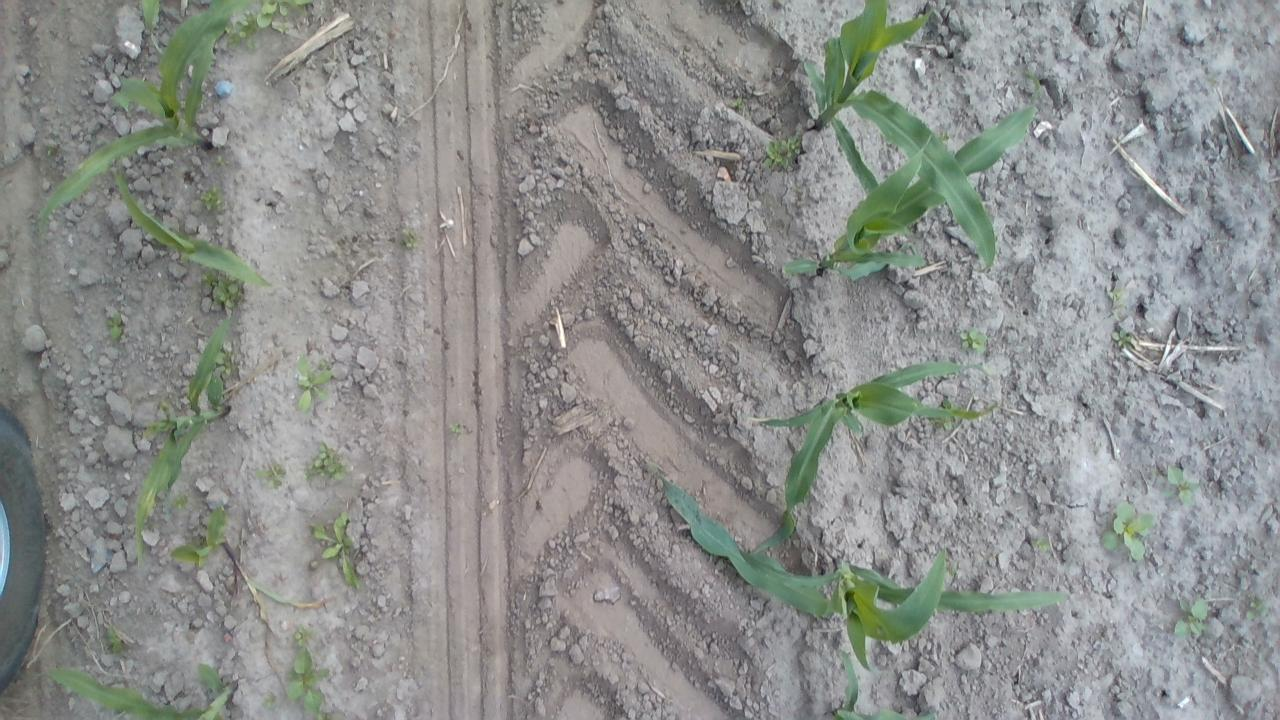Maize: (654, 472, 1072, 670), (780, 71, 1040, 284), (802, 1, 998, 272), (38, 0, 254, 245), (746, 360, 998, 562), (131, 316, 235, 566), (114, 169, 272, 288), (32, 663, 237, 720), (222, 538, 319, 631), (835, 648, 936, 720), (163, 503, 232, 570), (138, 0, 164, 40)
Weeds: (308, 509, 359, 588), (1102, 497, 1154, 562), (286, 644, 334, 714), (200, 272, 260, 320), (294, 355, 332, 414), (758, 129, 804, 176), (254, 0, 314, 30), (1170, 596, 1210, 638), (1164, 464, 1201, 507), (308, 439, 344, 482), (224, 10, 260, 49), (1102, 282, 1134, 318), (200, 185, 227, 214), (104, 312, 128, 342), (1244, 596, 1270, 623), (958, 326, 986, 350), (256, 463, 282, 488), (106, 625, 126, 656), (1110, 326, 1135, 350), (214, 351, 236, 376), (294, 624, 316, 648), (400, 226, 418, 249), (1032, 536, 1054, 553), (730, 94, 746, 115), (172, 492, 190, 510), (446, 422, 461, 437), (262, 692, 276, 708), (216, 154, 229, 170)
